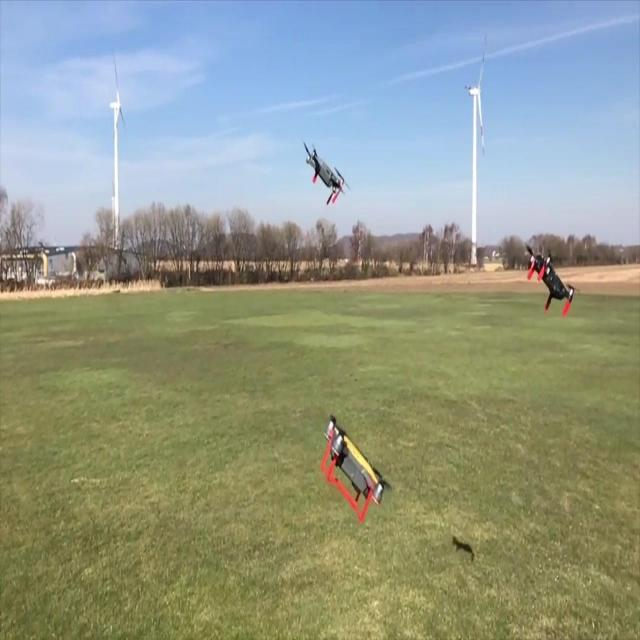UAV: (320, 412, 392, 524), (525, 242, 575, 316), (303, 142, 351, 206)
